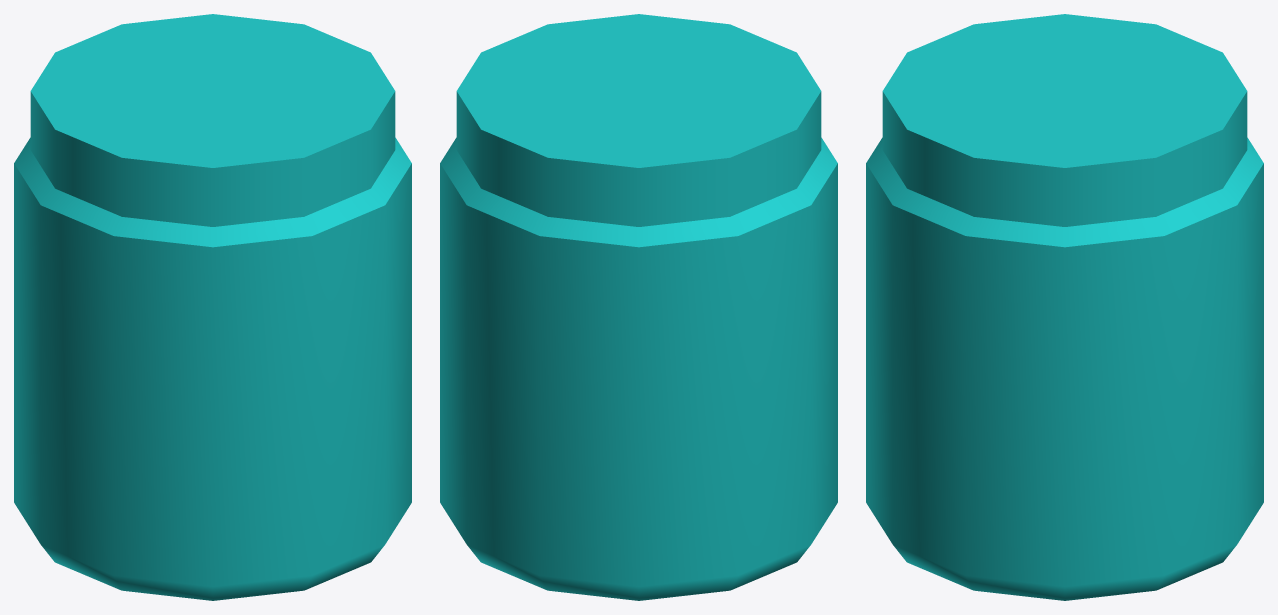
The model's file is Crema.fbx.
3 views of the same model, side by side, from view 1: azimuth 30°, elevation 25°; view 2: azimuth 150°, elevation 25°; view 3: azimuth 270°, elevation 25° (orthographic).
Visible parts, largest first — view 1: Crema; view 2: Crema; view 3: Crema.
Part boxes in pixels (box(x1,y1,x2,y2)): Crema: box(14, 14, 411, 600); Crema: box(440, 14, 837, 600); Crema: box(866, 14, 1263, 600).
Size of the model in its own units: 0.1105 by 0.1326 by 0.1105.
